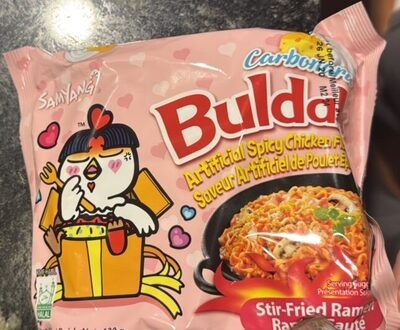Carbiana Buldak Spicy Ramen: (20, 16, 380, 314)
